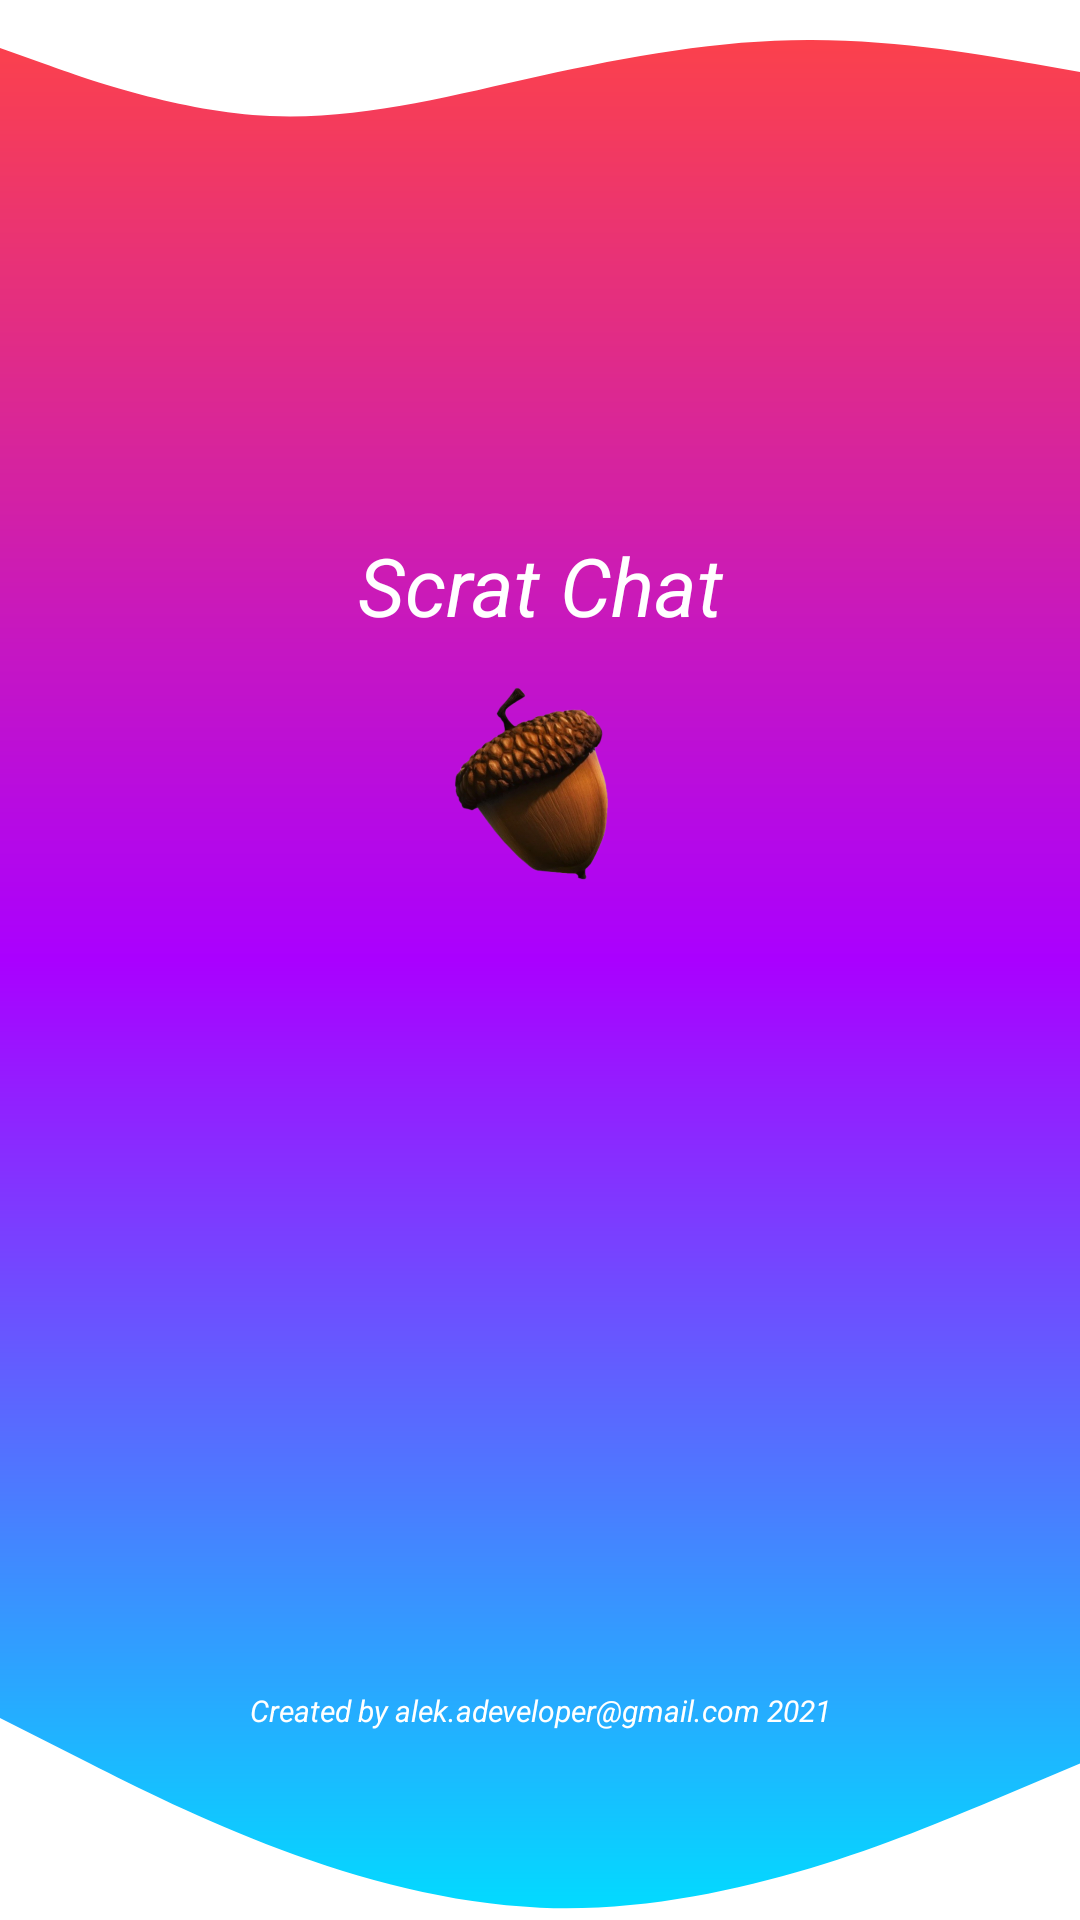

Named icons in this screenshot (1080w x 1920h) and their centers, (x,y):
nut one: (540,780)
